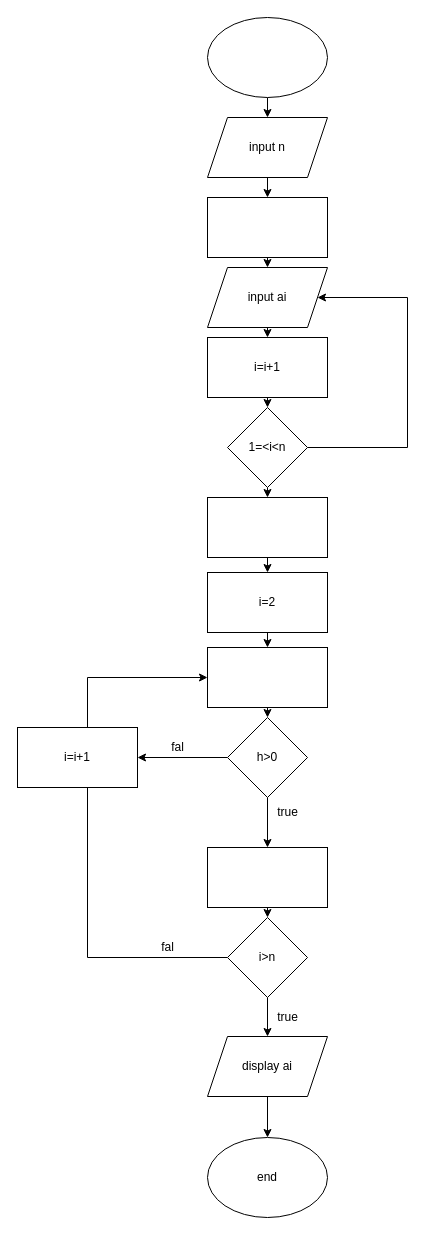
This 433x1235 diagram has some shape labels left out. The shapes that lost their labels are listed below. From the top down, each one's box as (x1, y1, x2, y2) in pixels, then its label:
(206, 16, 328, 98): begin
(206, 196, 328, 258): i=1
(206, 496, 328, 558): max=a1
(206, 646, 328, 708): h=ai-max
(206, 846, 328, 908): ai =max
